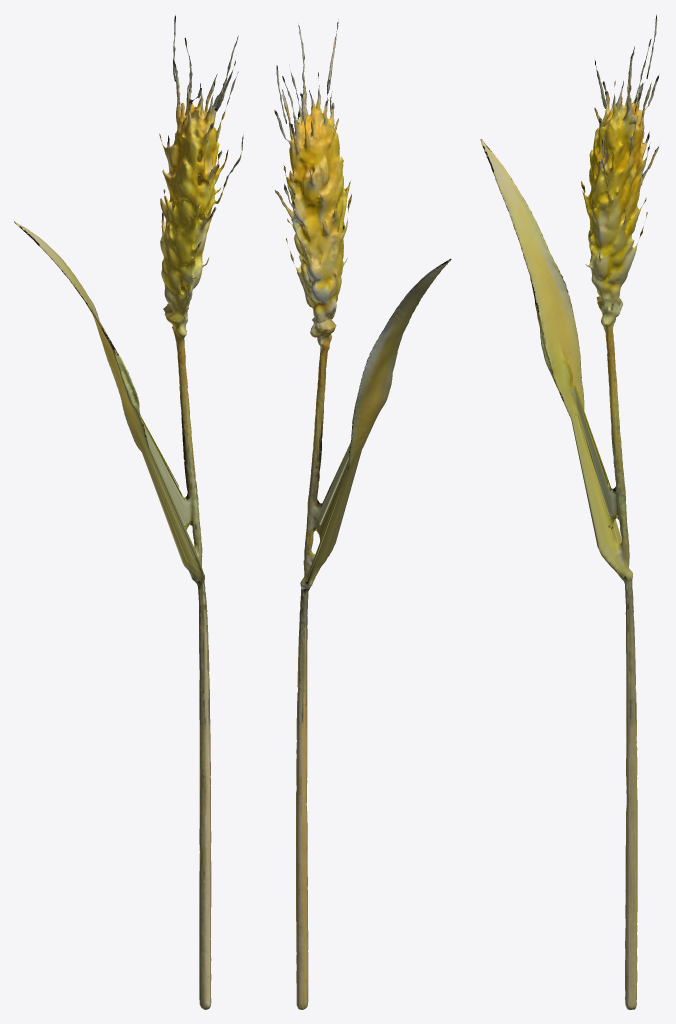
3 renders of one model, left to right at view 1: azimuth 30°, elevation 25°; view 2: azimuth 150°, elevation 25°; view 3: azimuth 330°, elevation 25°, orthographic.
Visible parts, largest first — view 1: Mesh_0; view 2: Mesh_0; view 3: Mesh_0.
Boxes of the visible parts, <box> form: Mesh_0: <box>14,15,243,1009</box>; Mesh_0: <box>274,19,451,1009</box>; Mesh_0: <box>480,14,658,1009</box>.
Size of the model in its own units: 40.24 by 192 by 22.38.
1 material, 1 textured.
